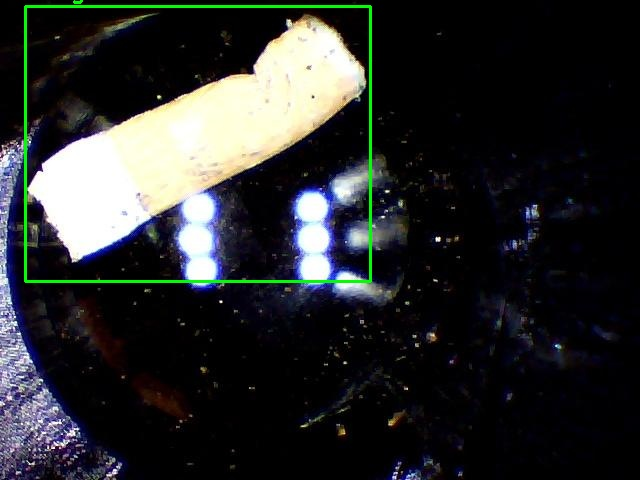megot: (25, 6, 370, 281)
